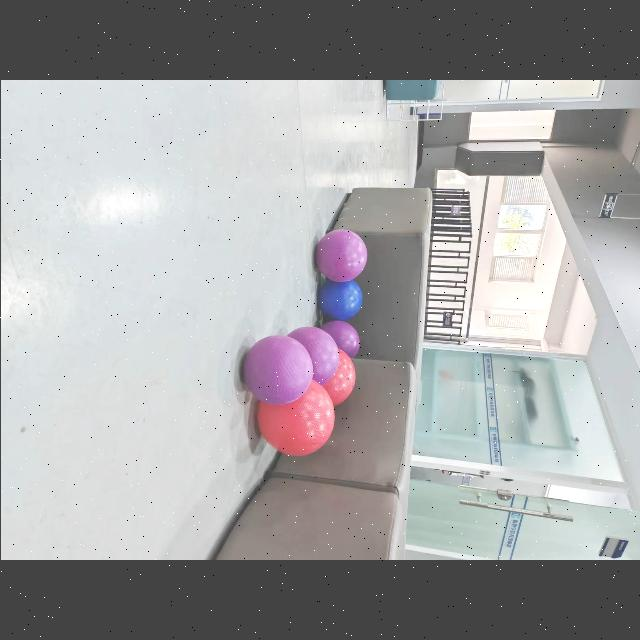B: (318, 281, 361, 320)
P: (242, 336, 312, 405), (288, 326, 338, 385), (314, 229, 367, 282), (321, 320, 359, 358)
R: (257, 380, 334, 456), (322, 349, 355, 405)
